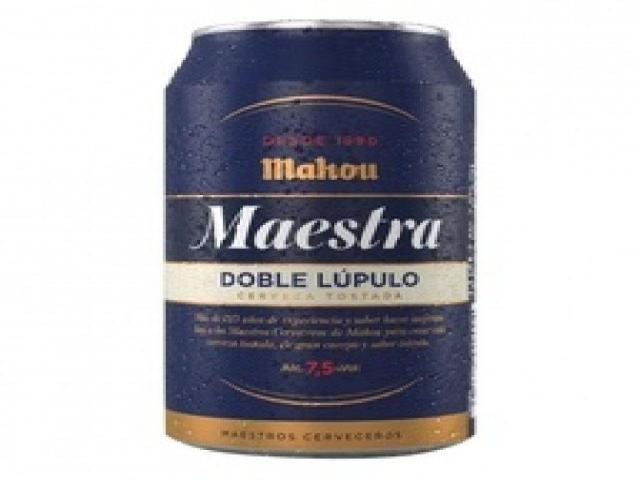Canned_drinks: (162, 20, 479, 459)
